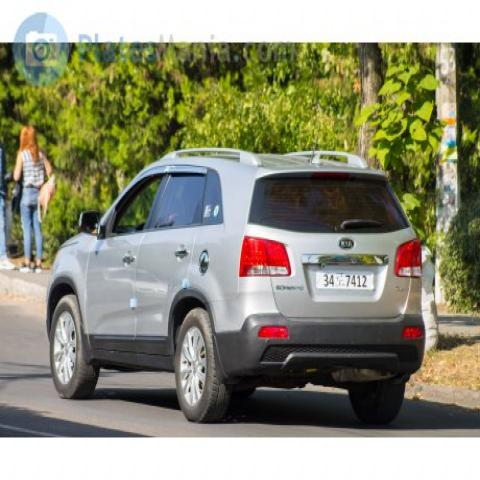LP: (301, 268, 380, 295)
